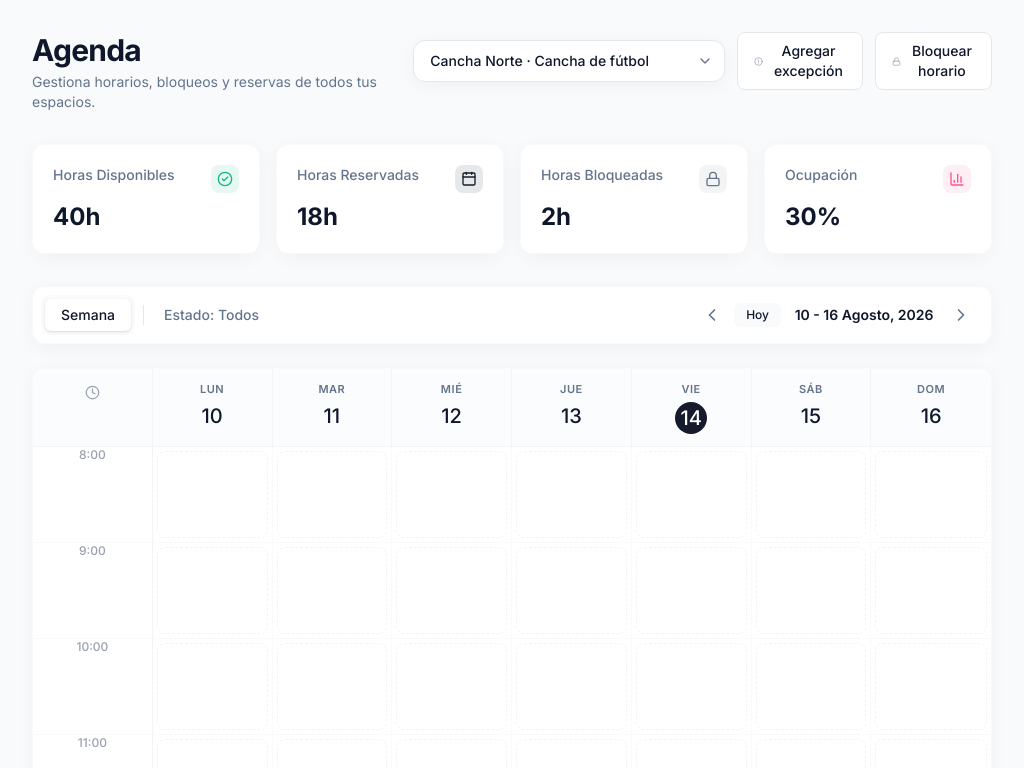
Scenario: espacio de franja exclusiva › crea un bloqueo y confirma con un aviso
Expected: the text "Lun" is shown, [200,382,224,396]
Click the button "Bloquear horario" at (934, 61), box [875,32,992,90]
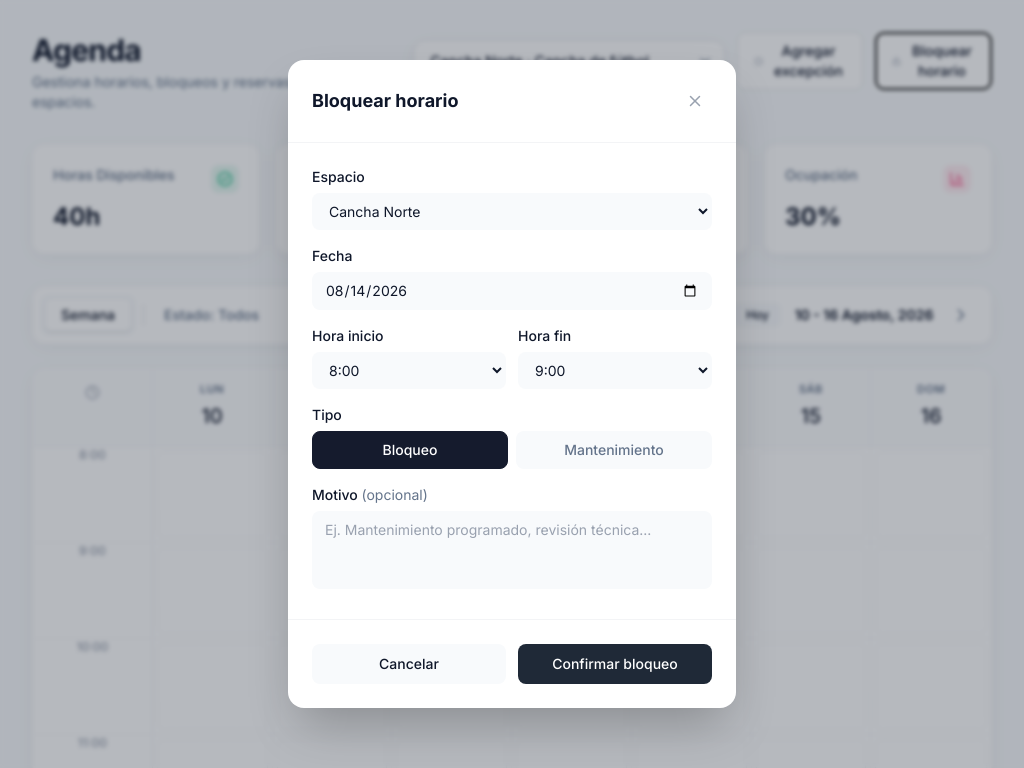
Click the button "Confirmar bloqueo" at (615, 664), box [518,644,712,684]
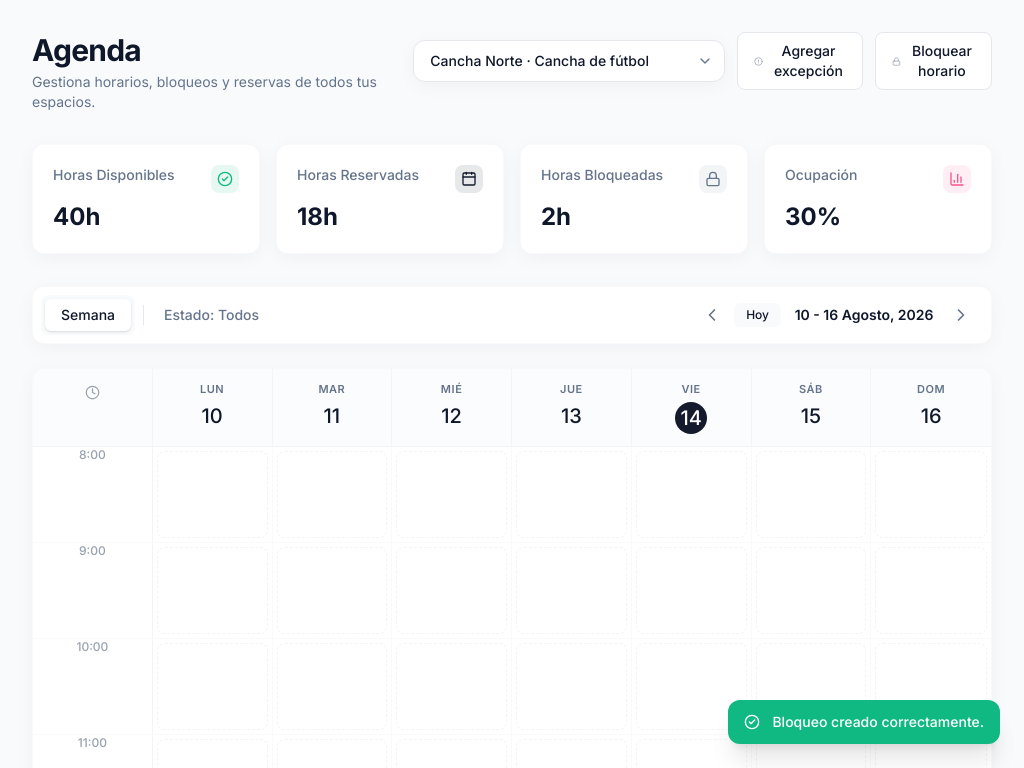
Result: the text "Bloqueo creado correctamente." is shown at [728,700,1000,744]
